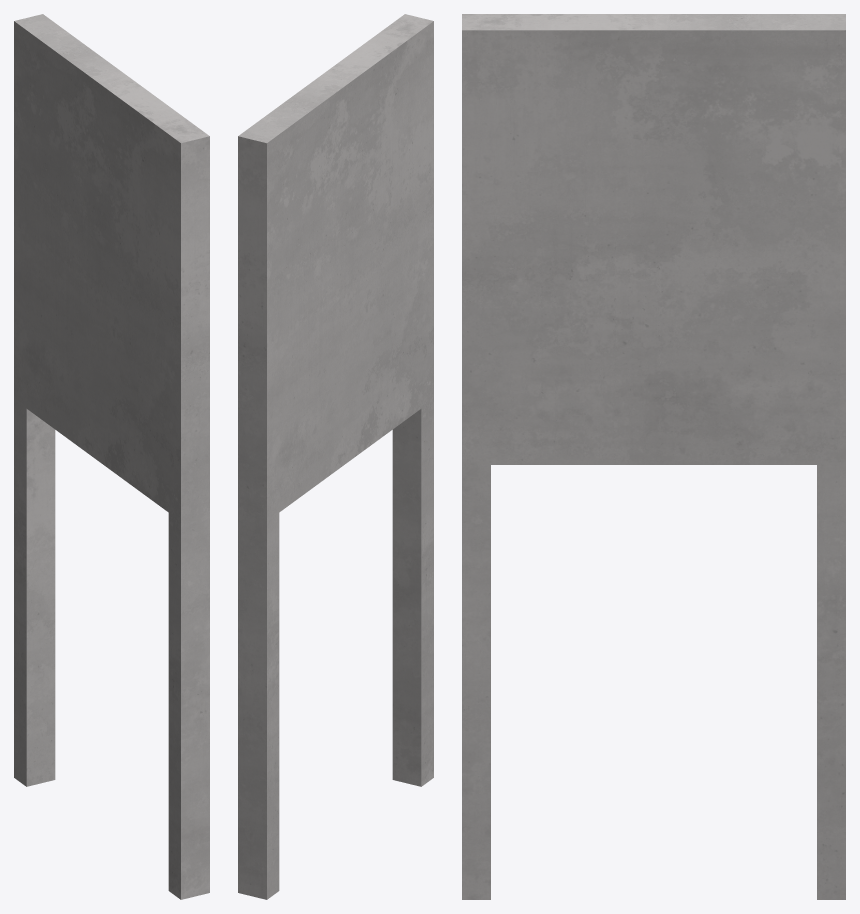
The model's file is Garage Door Wall.fbx.
The picture shows the model from 3 angles, left to right: view 1: azimuth 30°, elevation 25°; view 2: azimuth 150°, elevation 25°; view 3: azimuth 270°, elevation 25°; orthographic projection. The views are drawn at different scales.
Parts seen in each view (by area): view 1: Garage Door Wall; view 2: Garage Door Wall; view 3: Garage Door Wall.
Boxes of the visible parts, <box> form: Garage Door Wall: <box>14,14,209,899</box>; Garage Door Wall: <box>238,14,433,899</box>; Garage Door Wall: <box>462,14,845,899</box>.
Size of the model in its own units: 40 by 1000 by 400.
